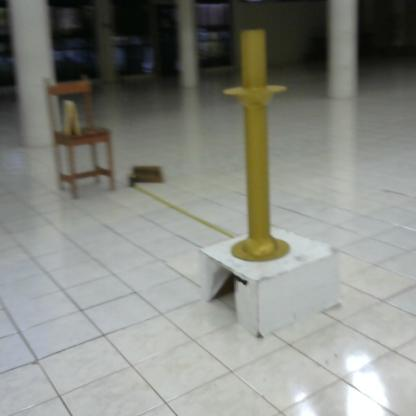pole: (221, 30, 305, 275)
